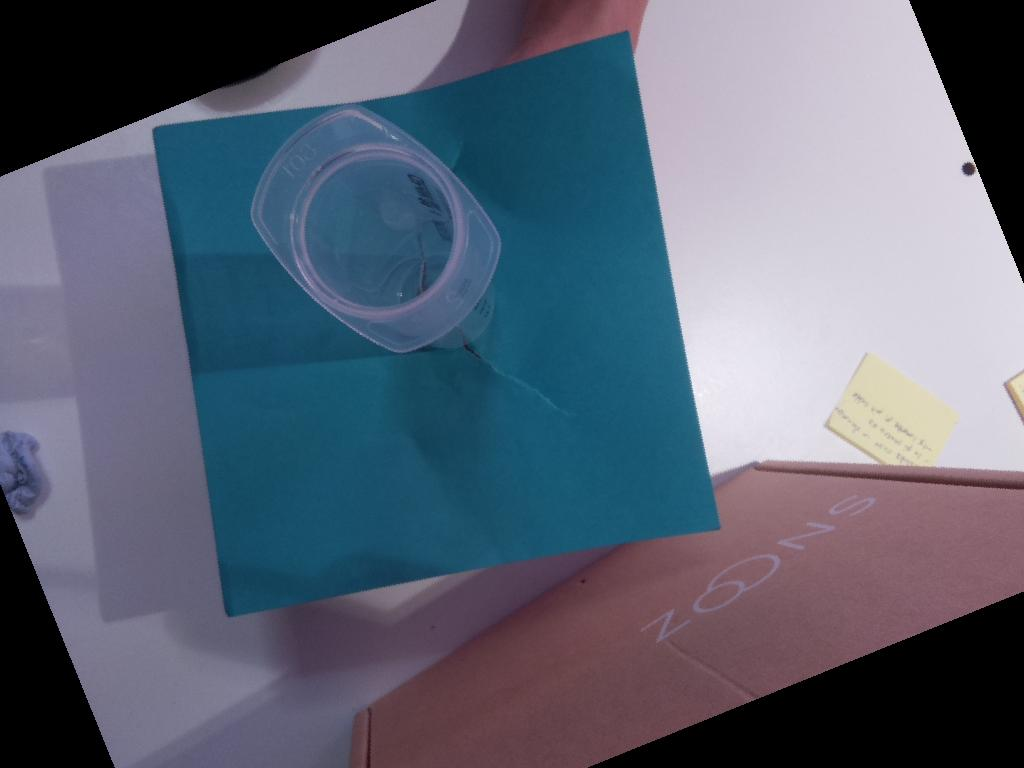clean: (248, 106, 503, 356)
